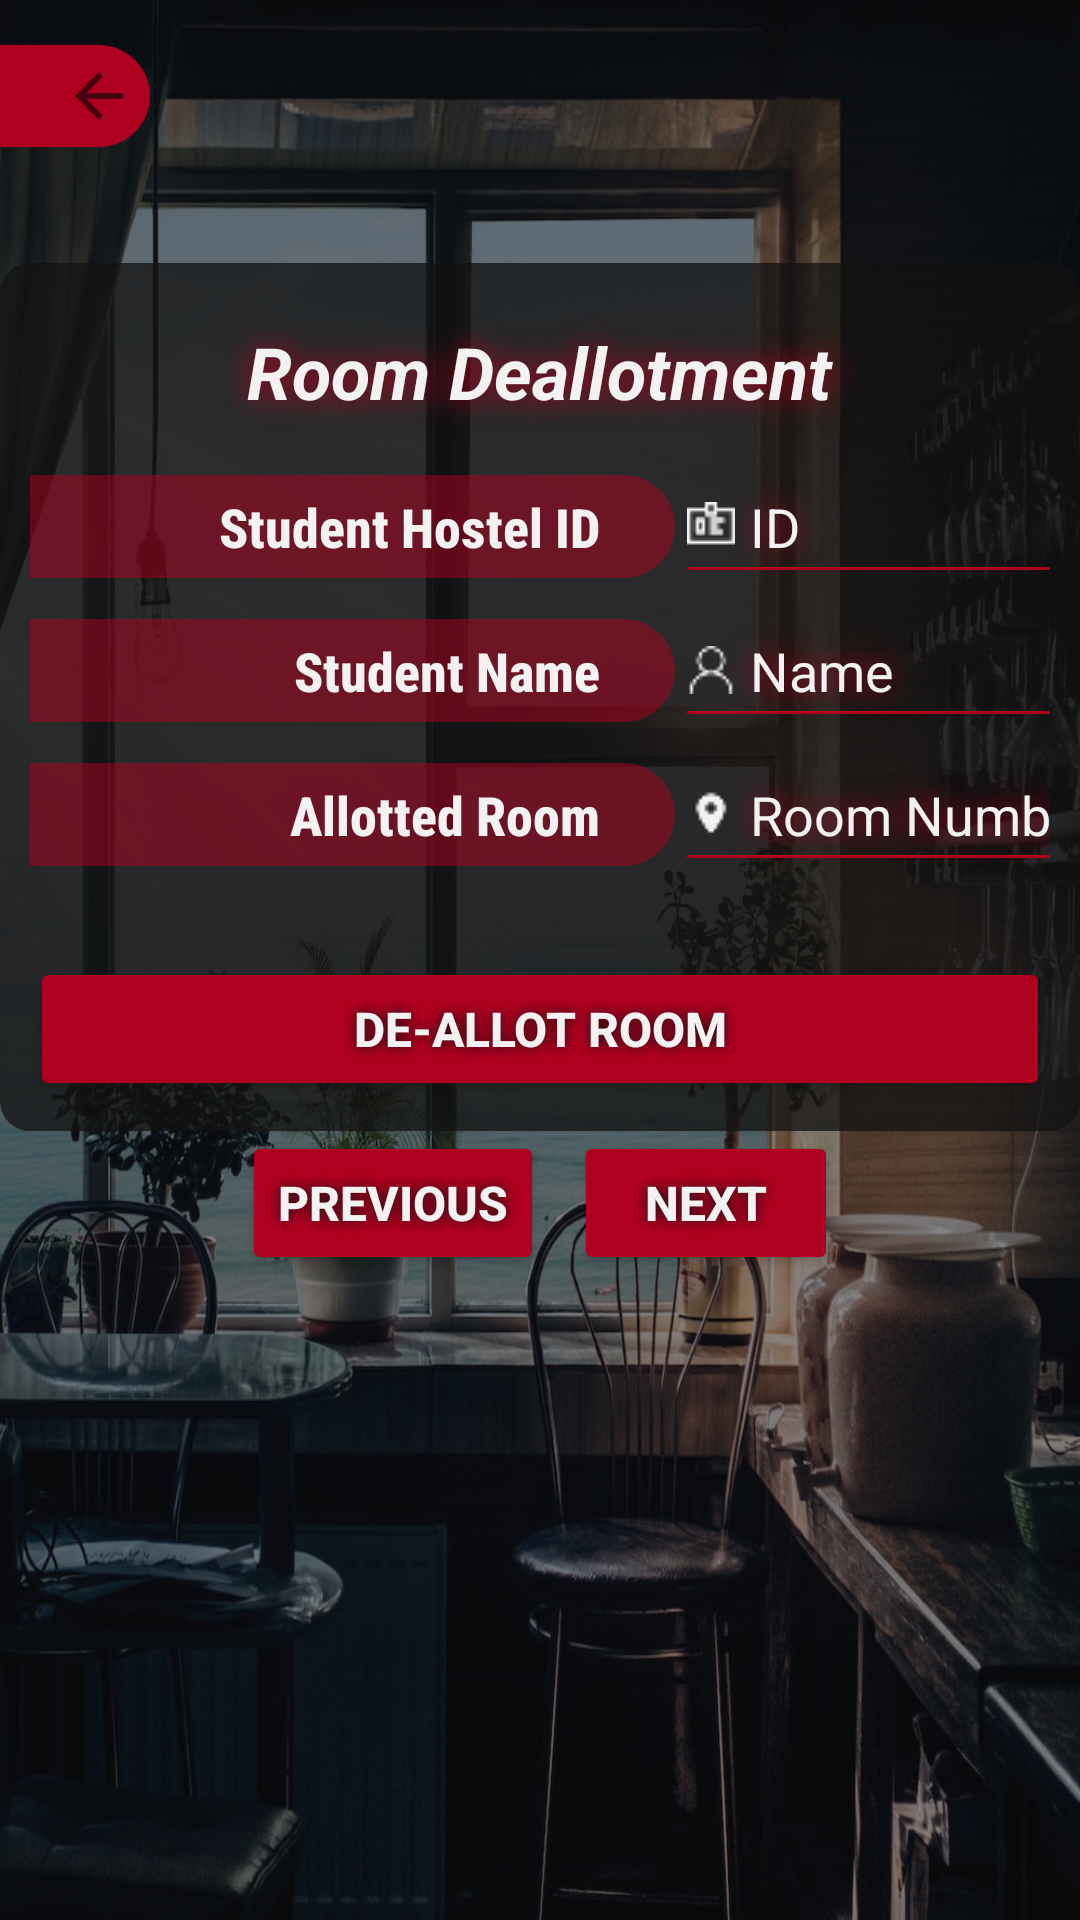

Where icons sit on this 1080×1920 app screen, as (x1, y1, x2, y2):
back button: (0, 45, 150, 147)
